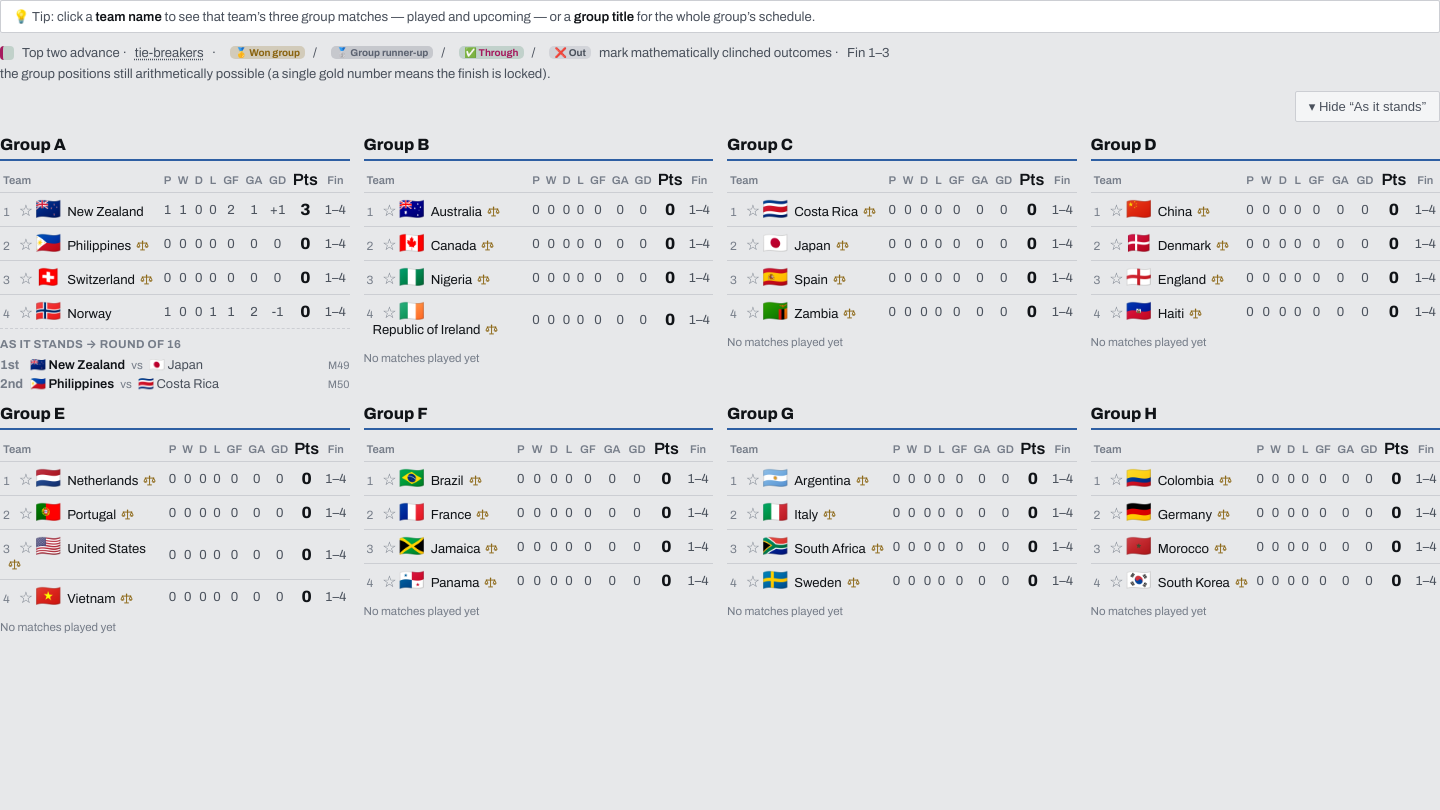
Test: Group games pop-up › shows the whole group’s six matches when the group title is clicked
Click the button "Group A" at (33, 145), box x1=0 y1=136 x2=66 y2=154
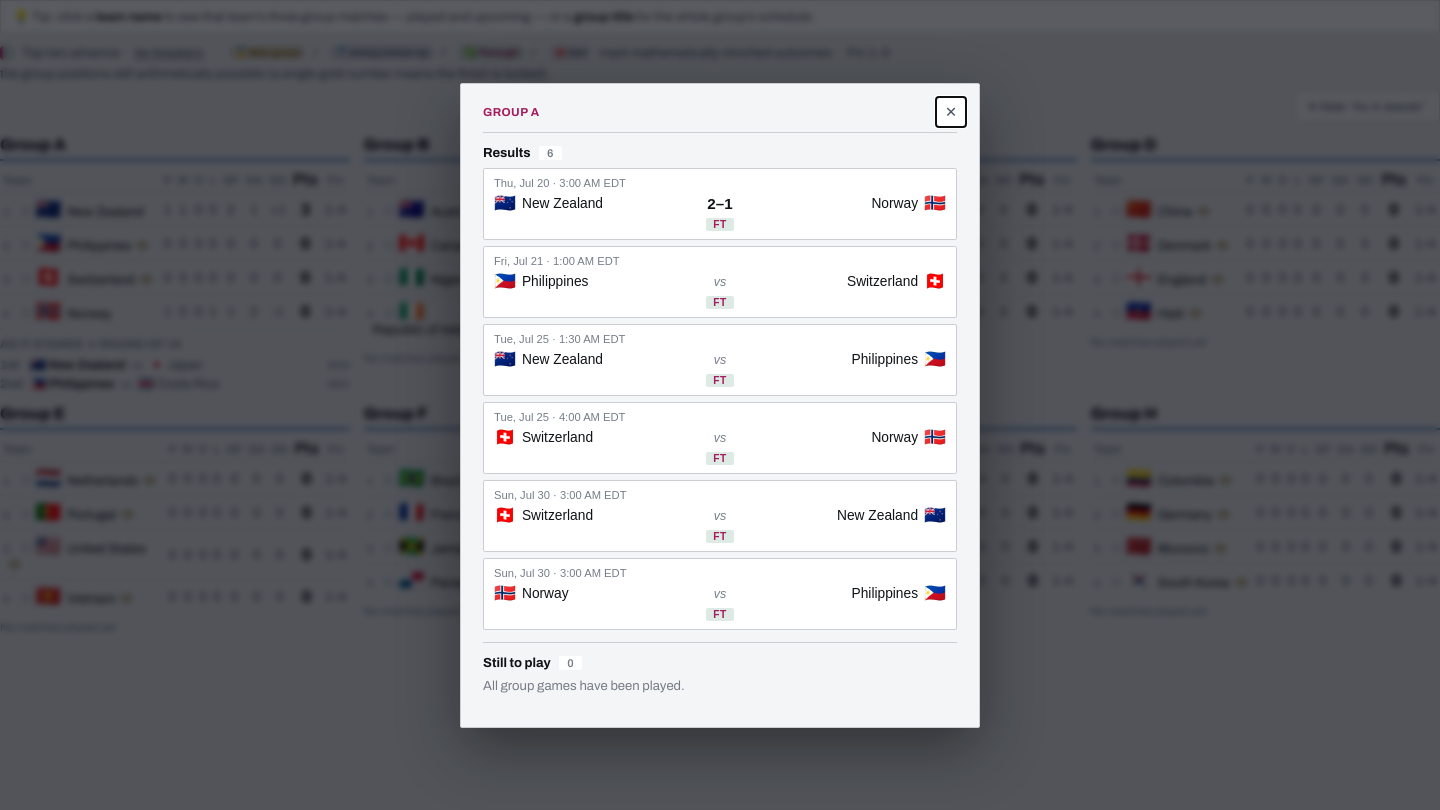
Expected: the number of buttons with class "gg-fixture" is 6, x1=483 y1=168 x2=957 y2=240; x1=483 y1=246 x2=957 y2=318; x1=483 y1=324 x2=957 y2=396; x1=483 y1=402 x2=957 y2=474; x1=483 y1=480 x2=957 y2=552; x1=483 y1=558 x2=957 y2=630
